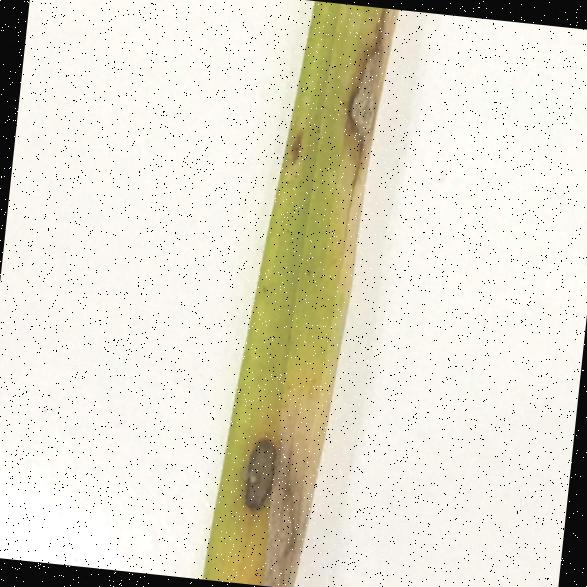Leaf_smut: (335, 11, 408, 187), (226, 388, 310, 538), (278, 116, 309, 170)
